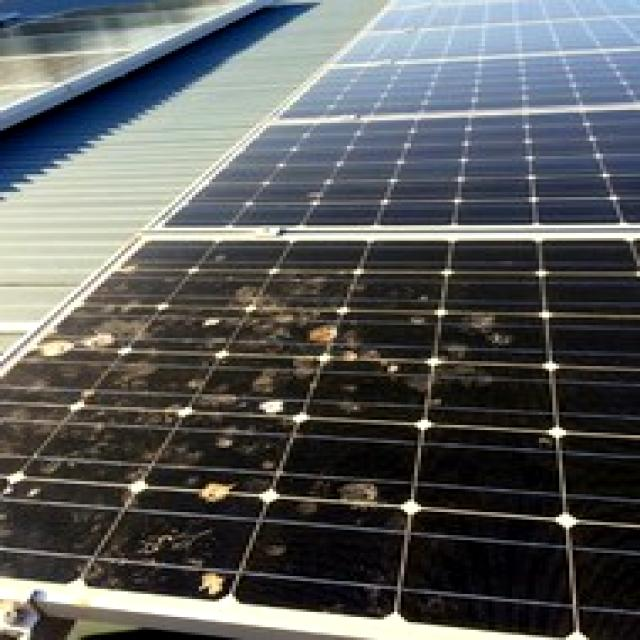bird: (16, 434, 112, 543), (30, 306, 167, 380), (284, 314, 403, 390), (175, 391, 300, 454), (171, 460, 255, 538), (150, 550, 268, 600), (322, 464, 398, 534), (215, 270, 352, 304), (444, 308, 524, 360)
